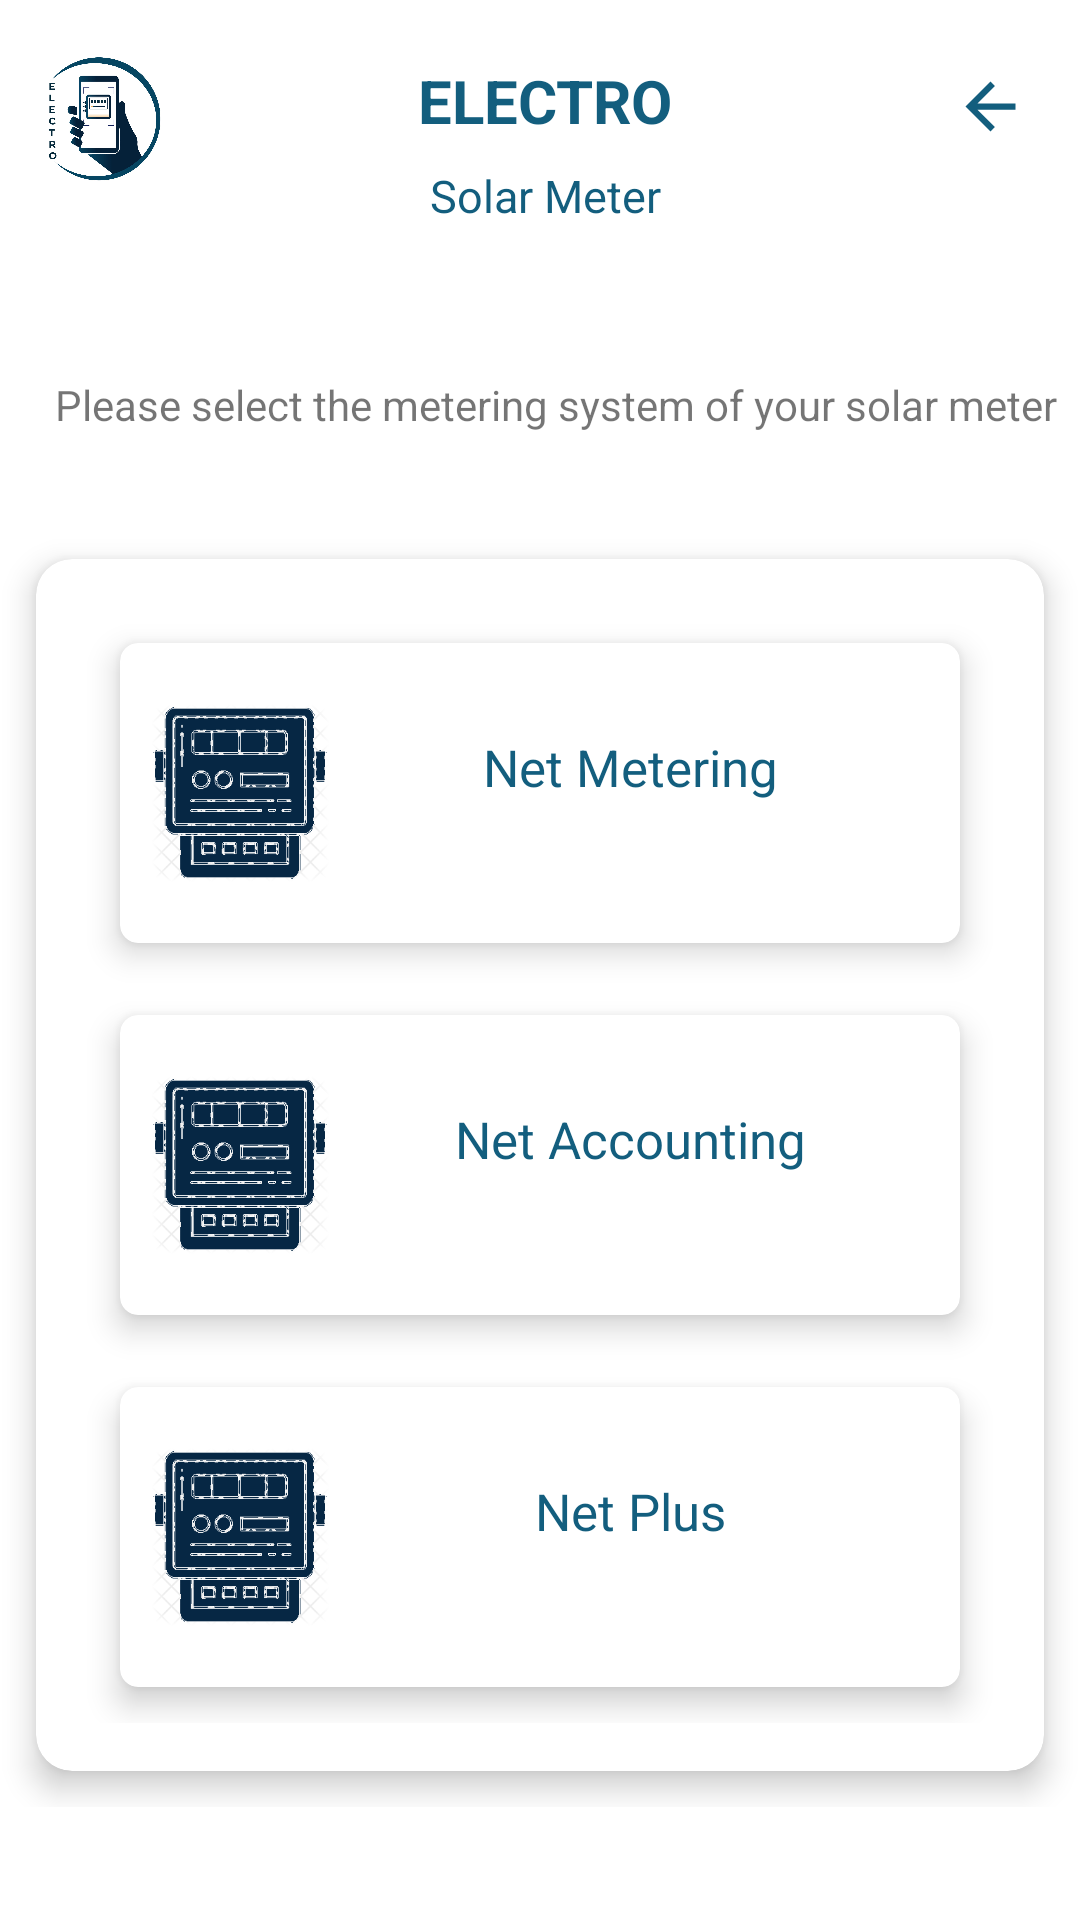

Locate icon controls on the screen. Image size 1080x1920, boxes as (x1, y1, x2, y2).
analog: (153, 707, 327, 879), (153, 1079, 327, 1251), (153, 1451, 327, 1623)
arrow back: (965, 81, 1016, 132)
